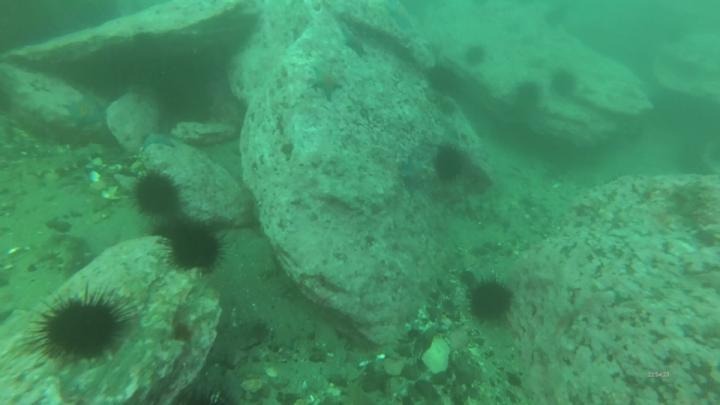echinus: (38, 302, 124, 352), (170, 228, 225, 267), (135, 179, 183, 214), (468, 281, 514, 317), (438, 145, 463, 180), (427, 67, 462, 89), (552, 71, 578, 97), (465, 46, 486, 69), (518, 82, 540, 102)
holothurian: (35, 236, 89, 278)
starfish: (70, 98, 106, 126), (403, 156, 428, 195), (312, 64, 342, 96), (144, 131, 173, 147)
